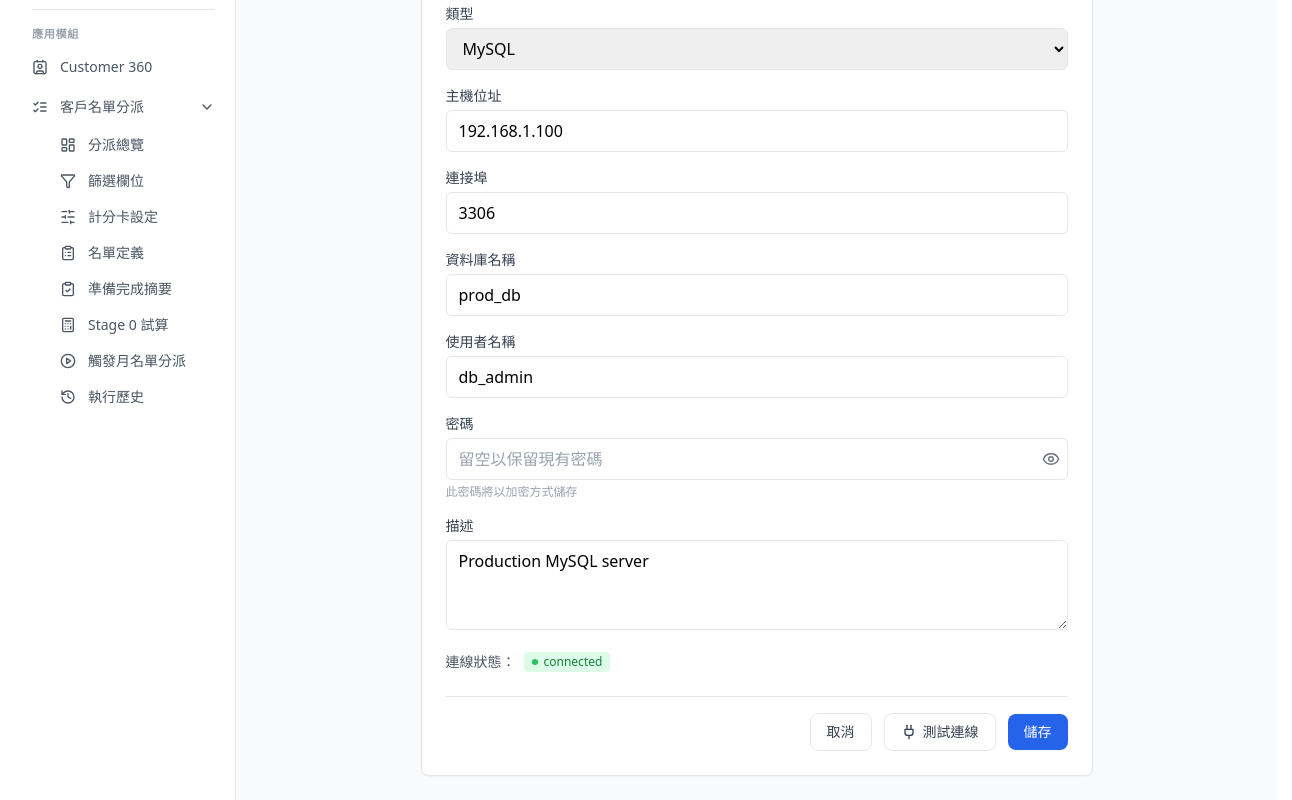
Scenario: EditDatasourcePage › 測試連線 › 測試連線中顯示載入狀態
(page scrolled)
Click the button "測試連線" at (940, 732), box x1=884 y1=713 x2=996 y2=751
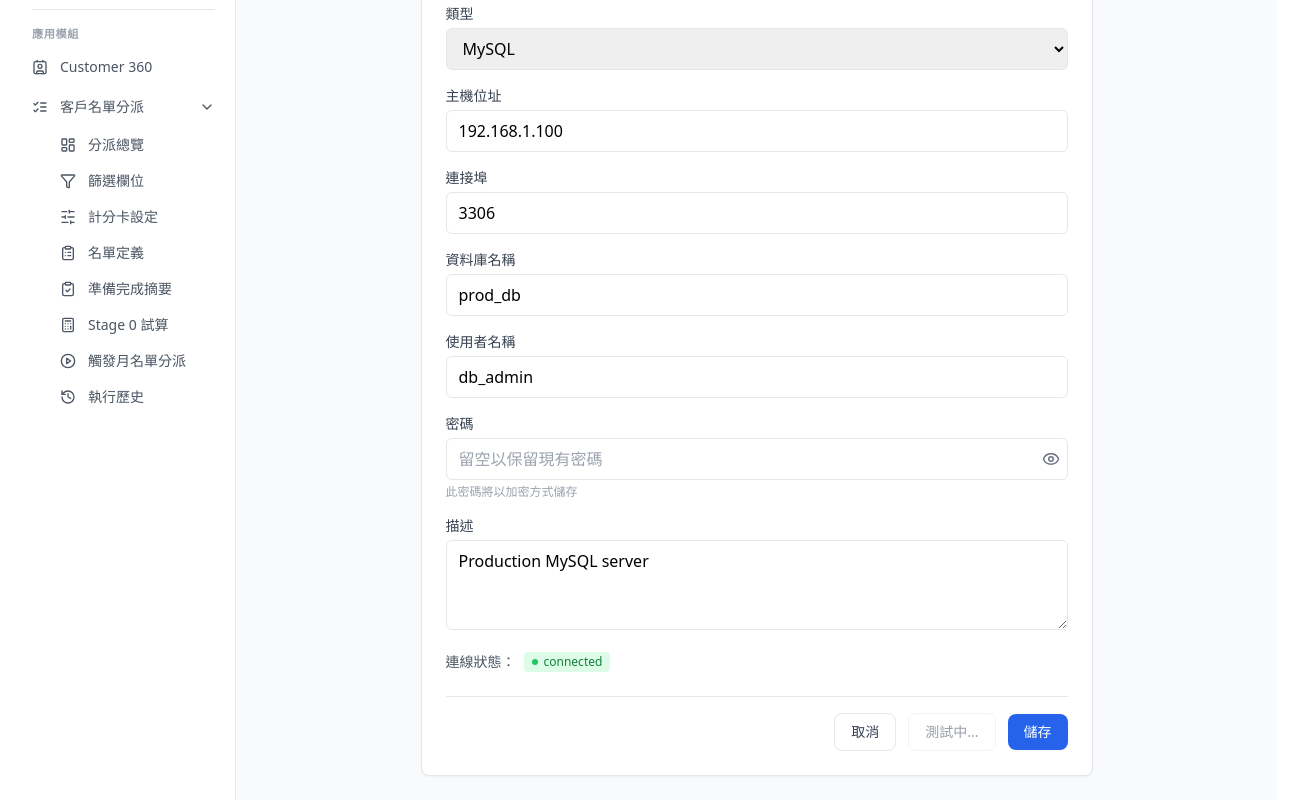
Expected: the button "測試中..." is disabled, x1=908 y1=713 x2=996 y2=751
